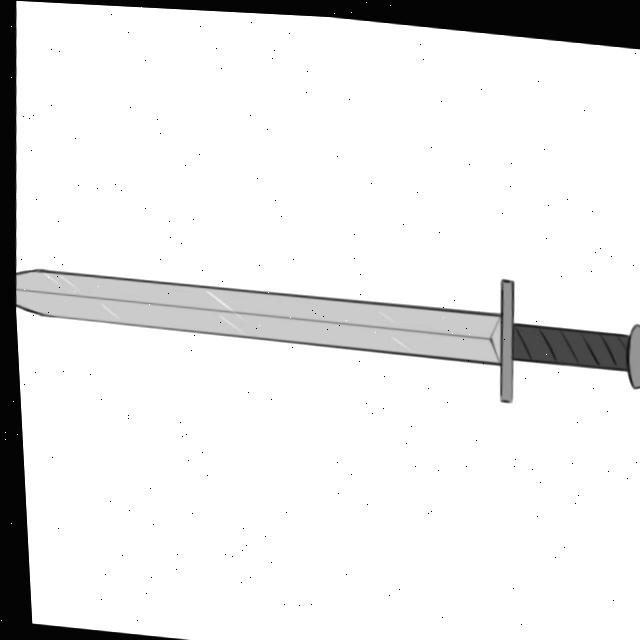knife: (9, 222, 640, 416)
